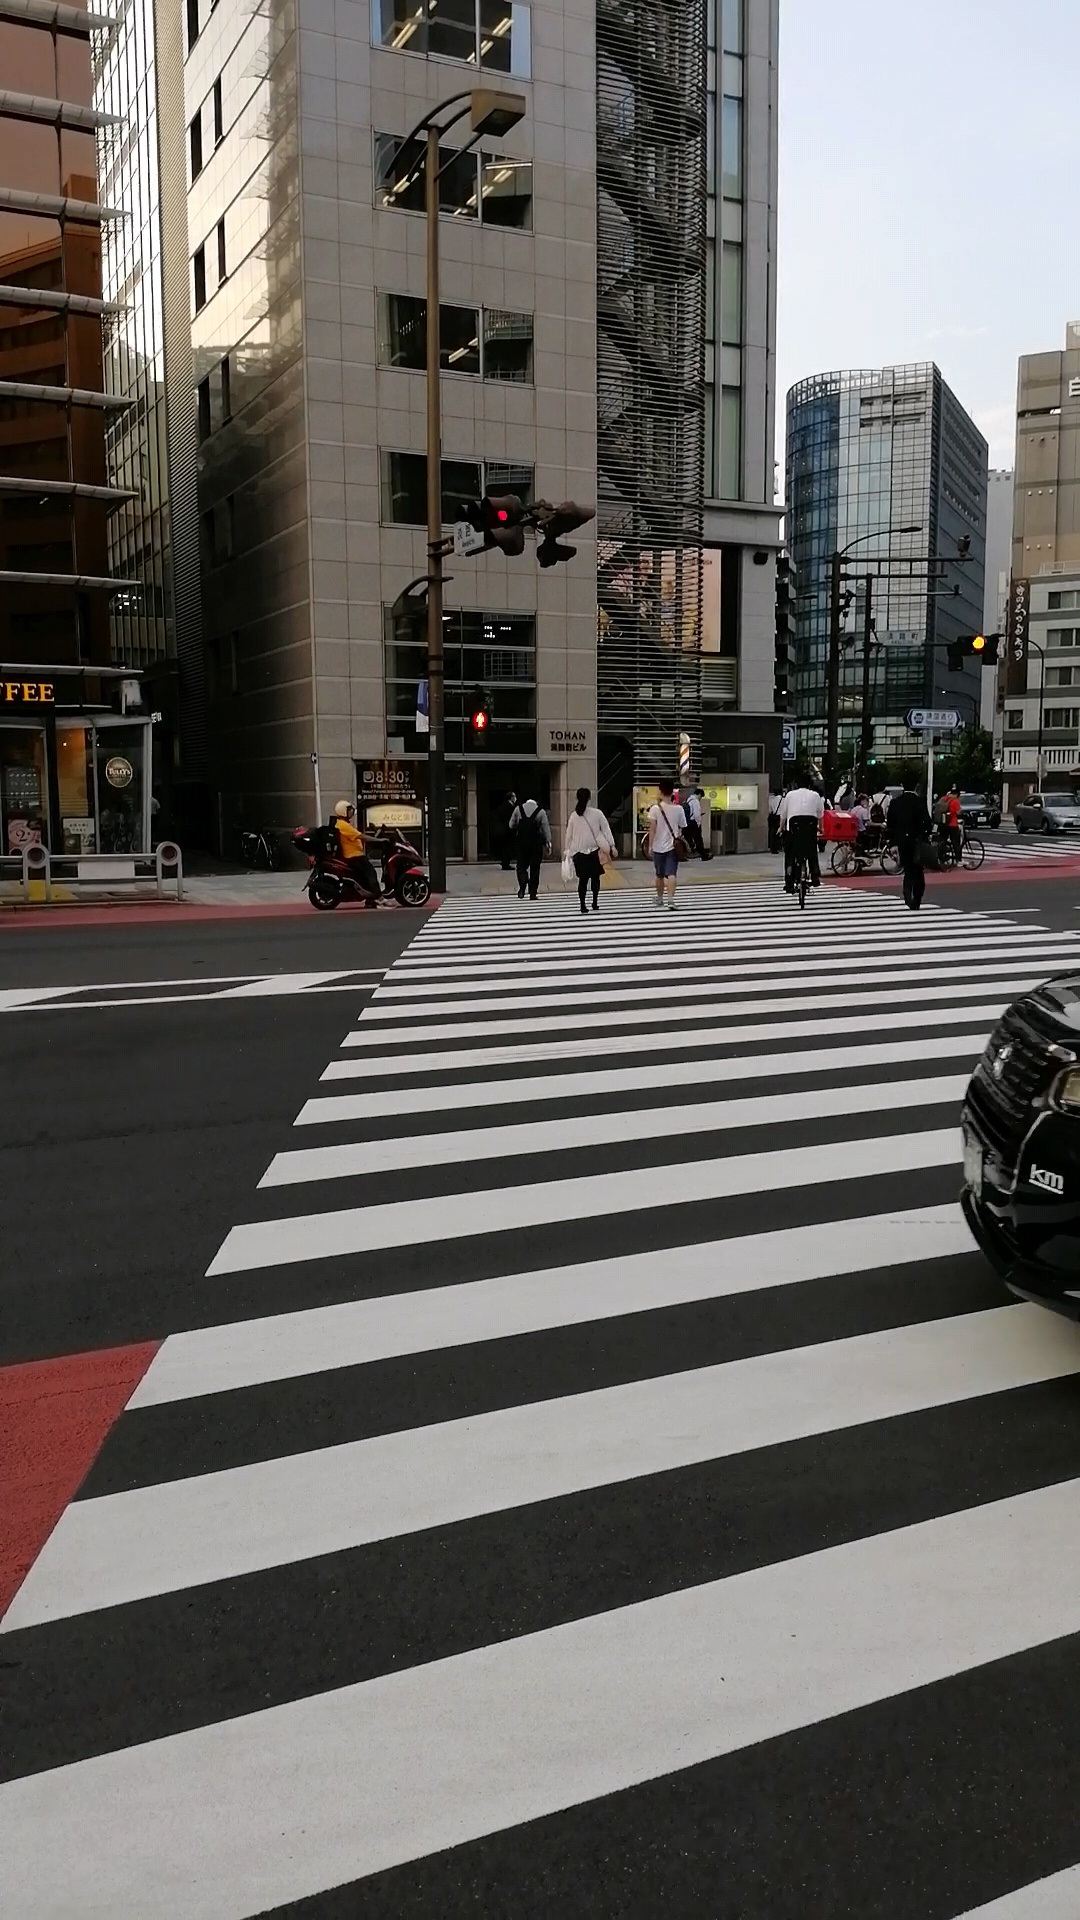red: (467, 705, 491, 750)
